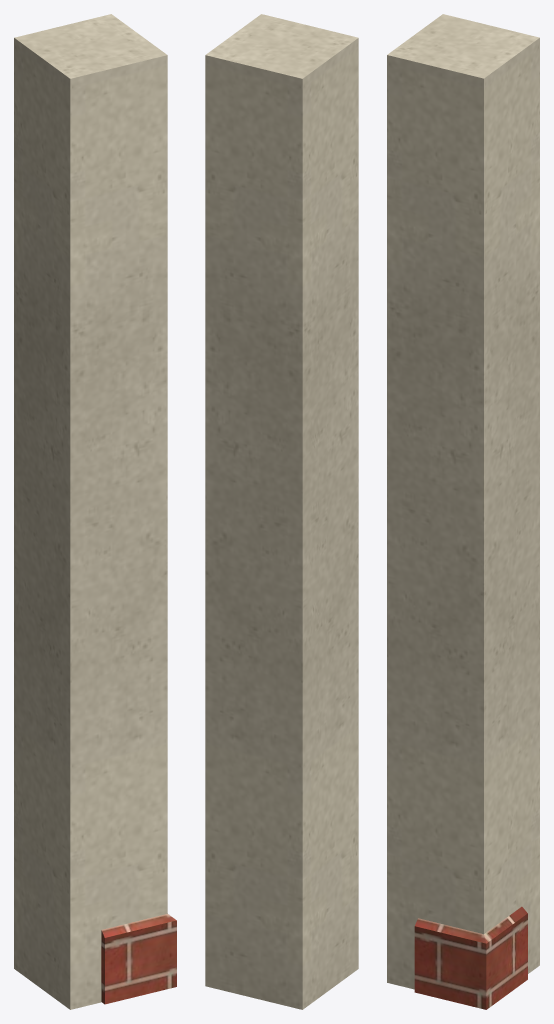
The model's file is gcorner.glb.
The picture shows the model from 3 angles, left to right: view 1: azimuth 30°, elevation 25°; view 2: azimuth 150°, elevation 25°; view 3: azimuth 330°, elevation 25°; orthographic projection.
Visible parts, largest first — view 1: gcorner_render, gcorner_brick; view 2: gcorner_render; view 3: gcorner_render, gcorner_brick.
Boxes of the visible parts, x1=… form: gcorner_render: x1=14, y1=14, x2=167, y2=1009; gcorner_brick: x1=101, y1=914, x2=176, y2=1004; gcorner_render: x1=205, y1=14, x2=358, y2=1009; gcorner_render: x1=387, y1=14, x2=539, y2=989; gcorner_brick: x1=414, y1=906, x2=527, y2=1009.
Bounding box in the file's own units: 0.318 × 2.74 × 0.318.
2 materials, 2 textured.
